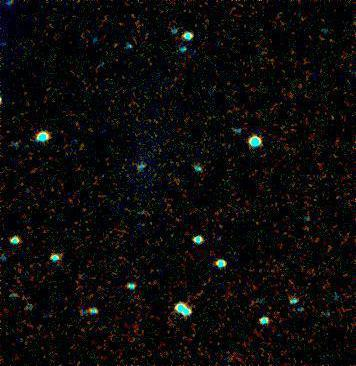star: (101, 34, 131, 64)
